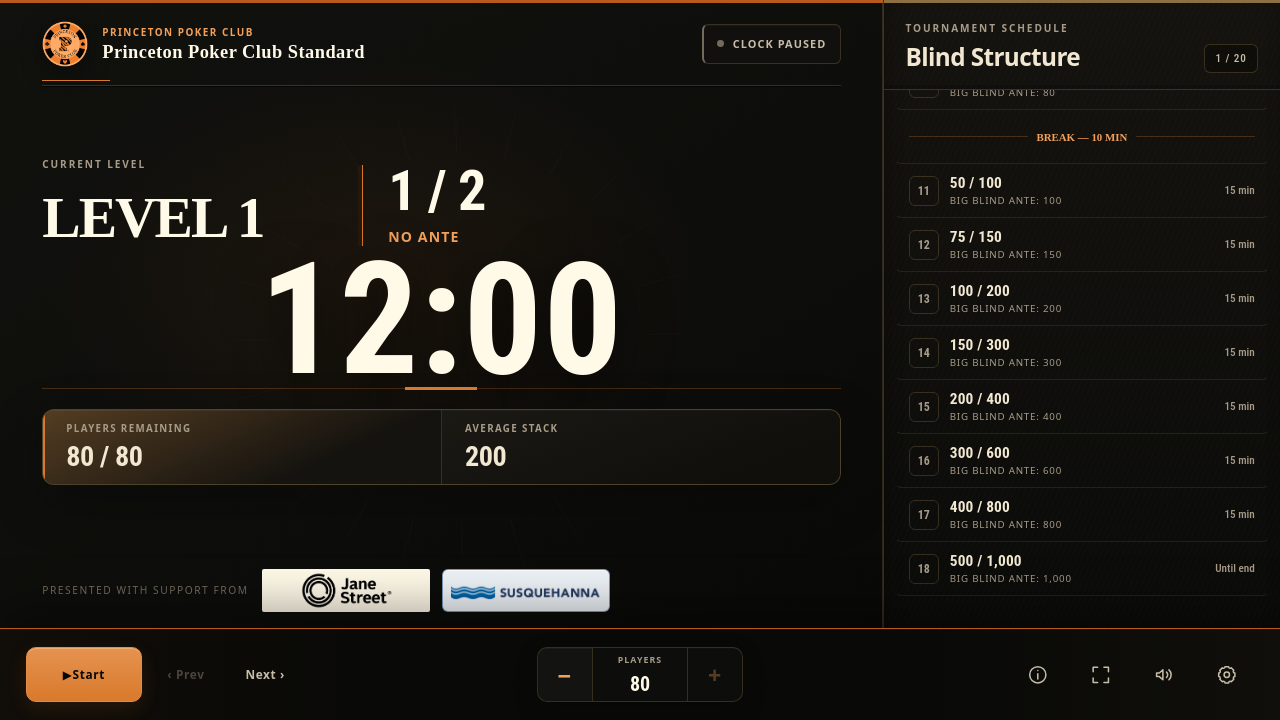
Test: TournamentDisplay › keeps break procedures out of poker levels and hides saved organizer level notes from the public schedule
The image size is (1280, 720).
(page scrolled)
expect the button with aria-label "Break, 10 min" reads "BREAK — 10 MIN": met, box [896,111,1268,163]
expect the button with aria-label "Level 13 100 / 200, BIG BLIND ANTE: 200, 15 min" is shown: met, box [896,273,1268,325]
Click the button with aria-label "Level 18 500 / 1,000" at (1004, 561), box [896,543,1268,595]
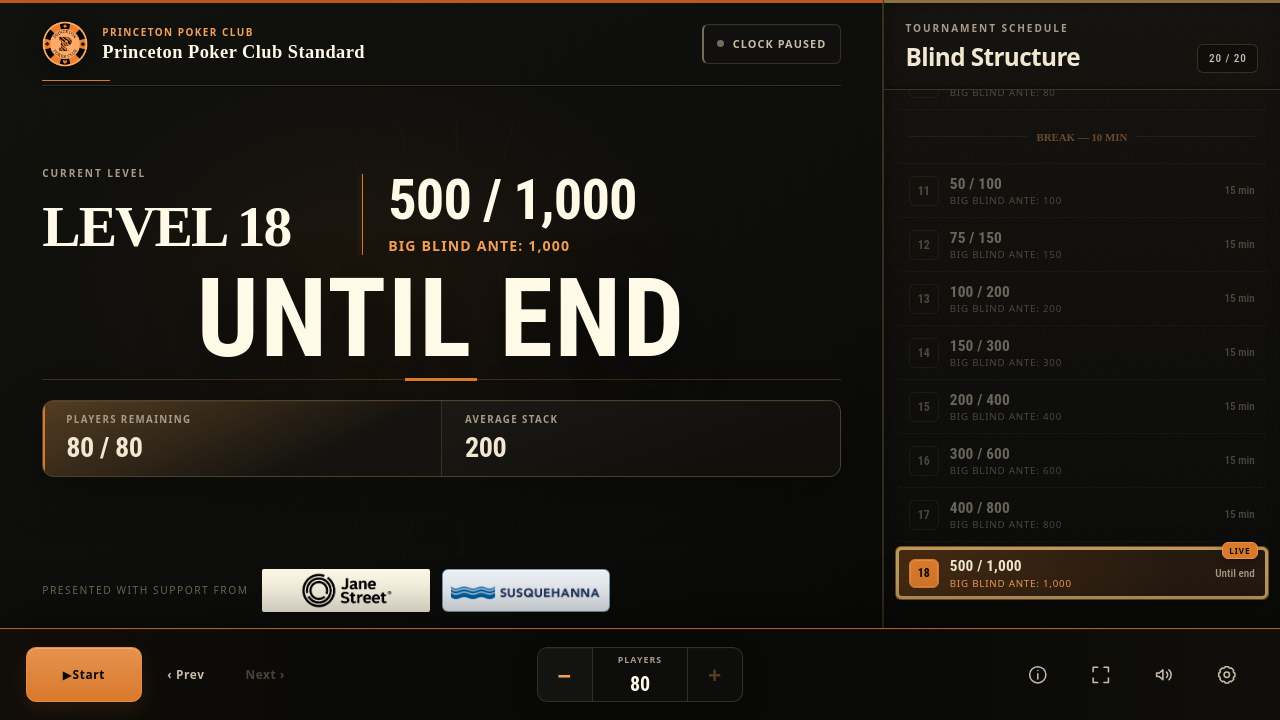
expect the element named "Current poker level" does not show "Final level": met, box [42,166,840,255]
expect the element named "Current poker level" shows "LEVEL 18": met, box [42,166,840,255]
expect the text "UNTIL END" is shown: met, box [42,271,840,380]
